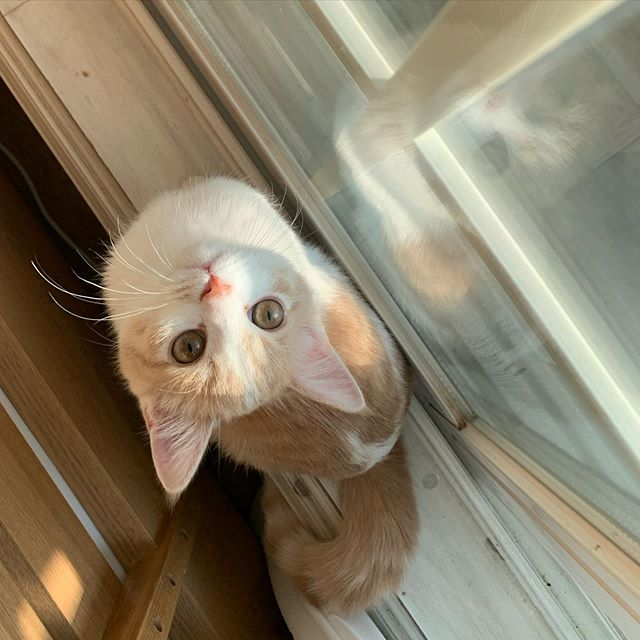cat: (104, 238, 369, 498)
